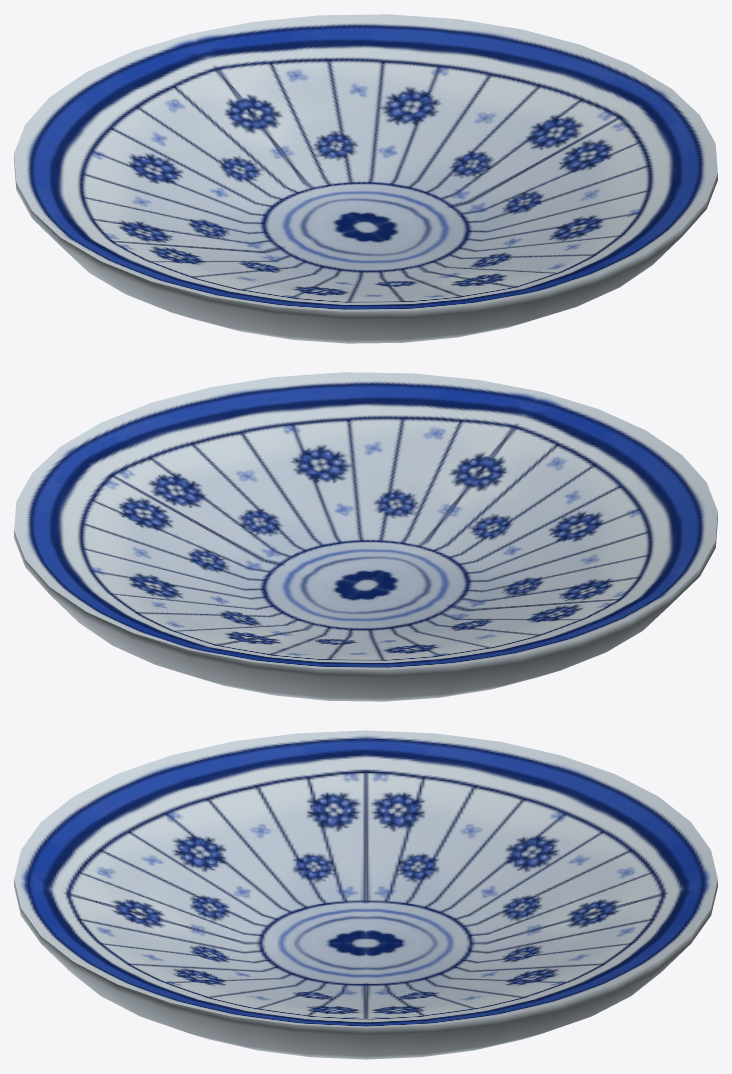
The model's file is Decor_FlatBowl.fbx.
3 renders of one model, top to bottom at view 1: azimuth 30°, elevation 25°; view 2: azimuth 150°, elevation 25°; view 3: azimuth 270°, elevation 25°, orthographic.
Parts seen in each view (by area): view 1: Smooth_FlatBowl4; view 2: Smooth_FlatBowl4; view 3: Smooth_FlatBowl4.
Boxes of the visible parts, x1,y1,x2,y2 form: Smooth_FlatBowl4: (14,14,717,343); Smooth_FlatBowl4: (14,372,717,701); Smooth_FlatBowl4: (14,730,717,1059).
Bounding box in the file's own units: 4.82 × 0.5643 × 4.82.
